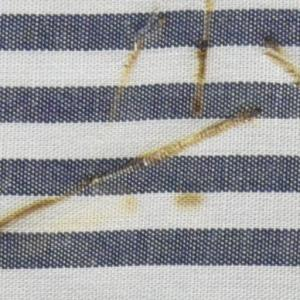Oil Stain: (1, 104, 269, 265), (105, 10, 169, 122), (190, 1, 217, 121), (260, 32, 300, 93)
